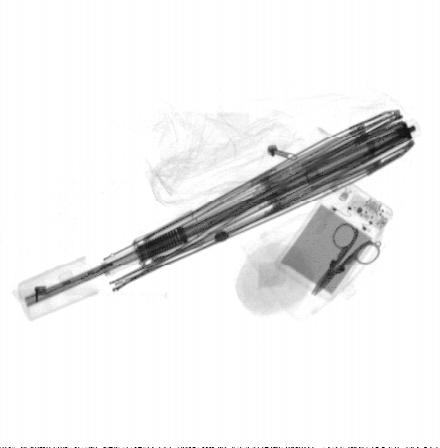Powerbank: (272, 173, 395, 304)
Scissors: (309, 221, 383, 298)
